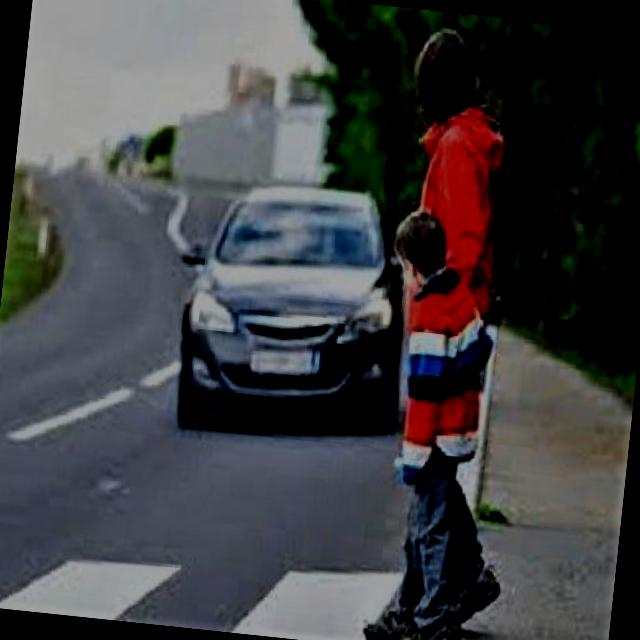Person: (350, 20, 559, 640), (347, 203, 512, 640)
